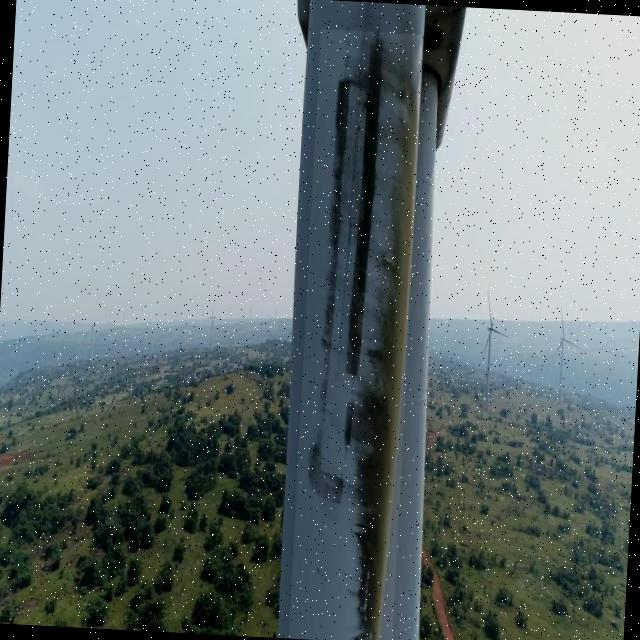Dirt: (305, 29, 419, 640)
Pin Hole: (310, 442, 326, 463), (394, 82, 409, 101)
